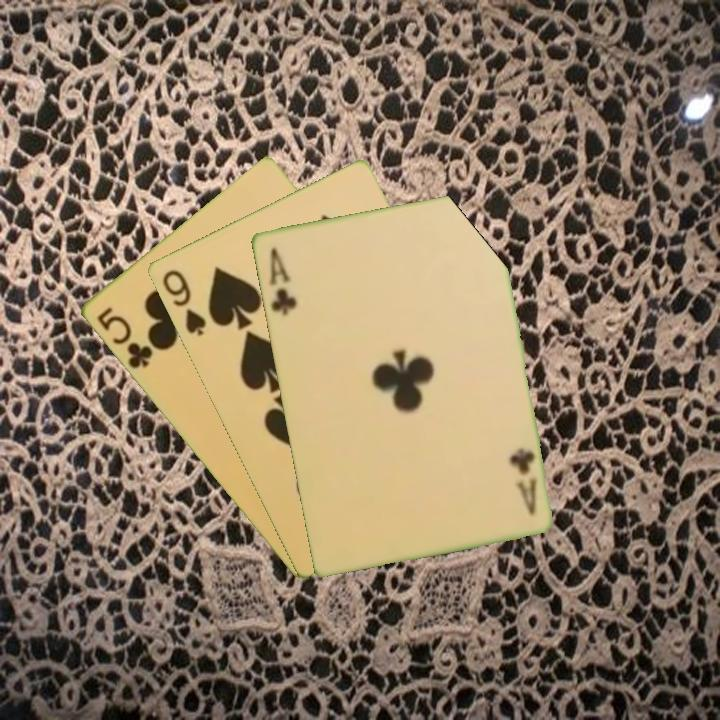5c: (93, 303, 156, 372)
9s: (158, 266, 209, 339)
Ac: (264, 244, 299, 318), (505, 444, 540, 518)
